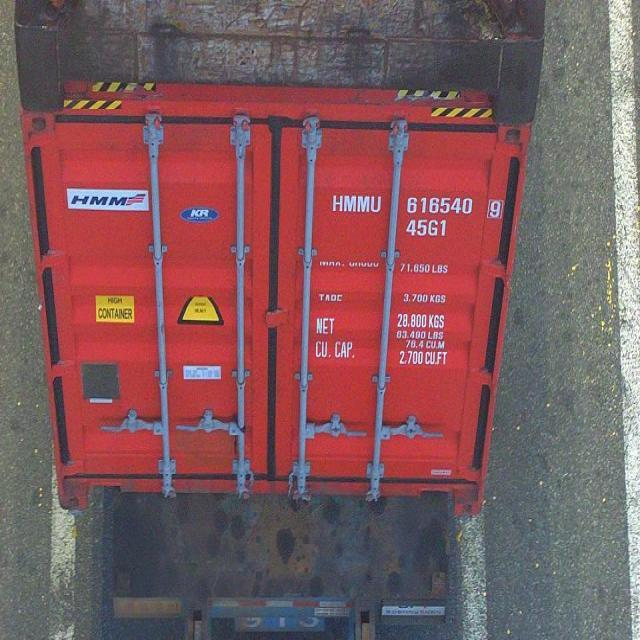ISO: (406, 219, 449, 238)
container_number: (334, 194, 501, 216)
